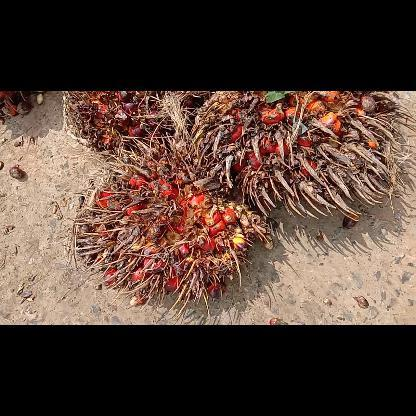Terlalu masak: (67, 152, 277, 320), (186, 90, 414, 224), (56, 90, 196, 158)
